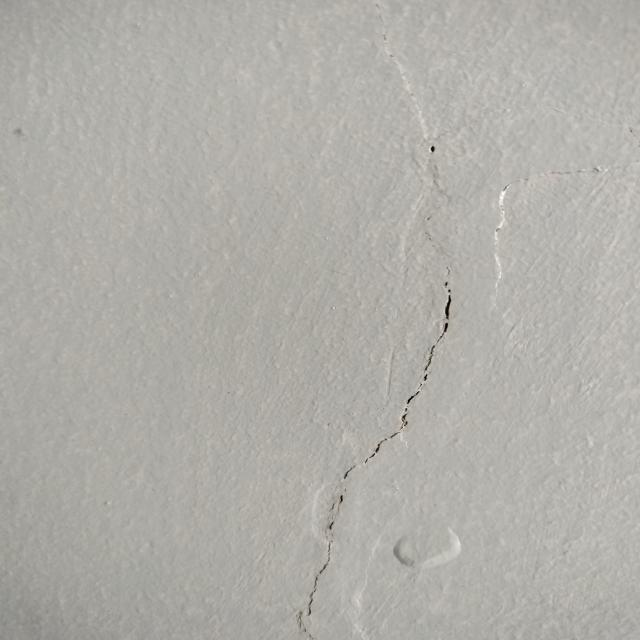Crack: (290, 212, 457, 640)
